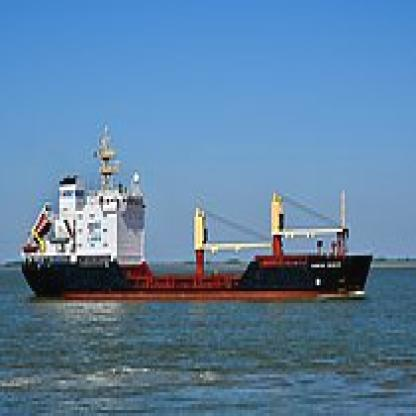Tanker: (16, 113, 384, 315)
